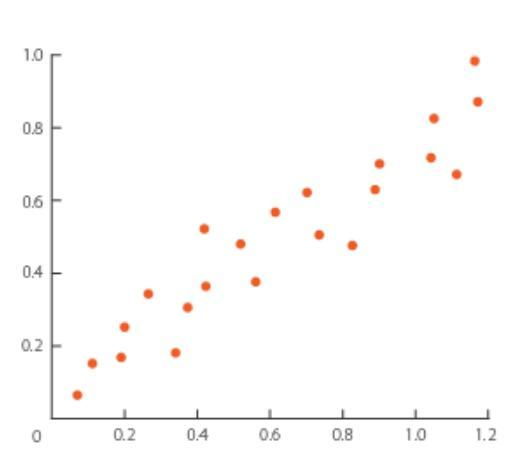axis: (49, 407, 495, 423), (47, 49, 63, 425)
point: (297, 182, 322, 206), (115, 317, 138, 342), (444, 161, 466, 187), (423, 109, 448, 131), (227, 236, 252, 256), (467, 49, 489, 71), (69, 386, 92, 407), (369, 151, 392, 172), (344, 231, 363, 256), (464, 94, 489, 113), (110, 347, 132, 368), (193, 274, 216, 294), (174, 298, 198, 317), (137, 281, 158, 302), (167, 341, 188, 362), (195, 217, 214, 240), (309, 227, 330, 247), (367, 181, 388, 201), (84, 355, 106, 374), (264, 205, 288, 222), (423, 149, 442, 169), (245, 272, 266, 290)
